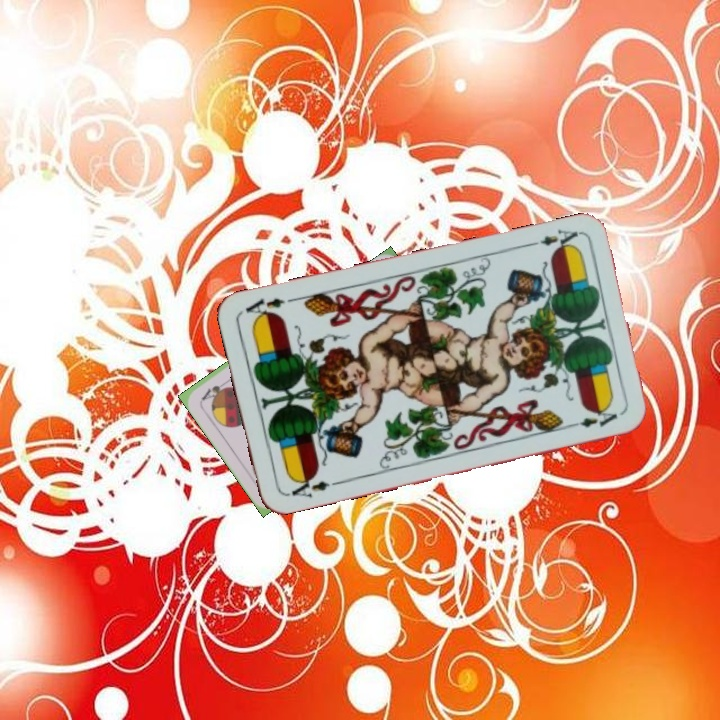EA: (523, 225, 581, 254), (283, 471, 332, 500)
